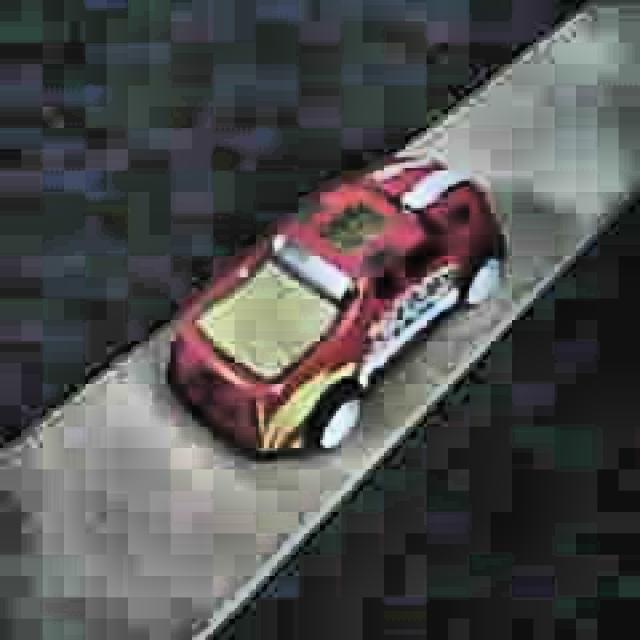car: (164, 146, 511, 467)
